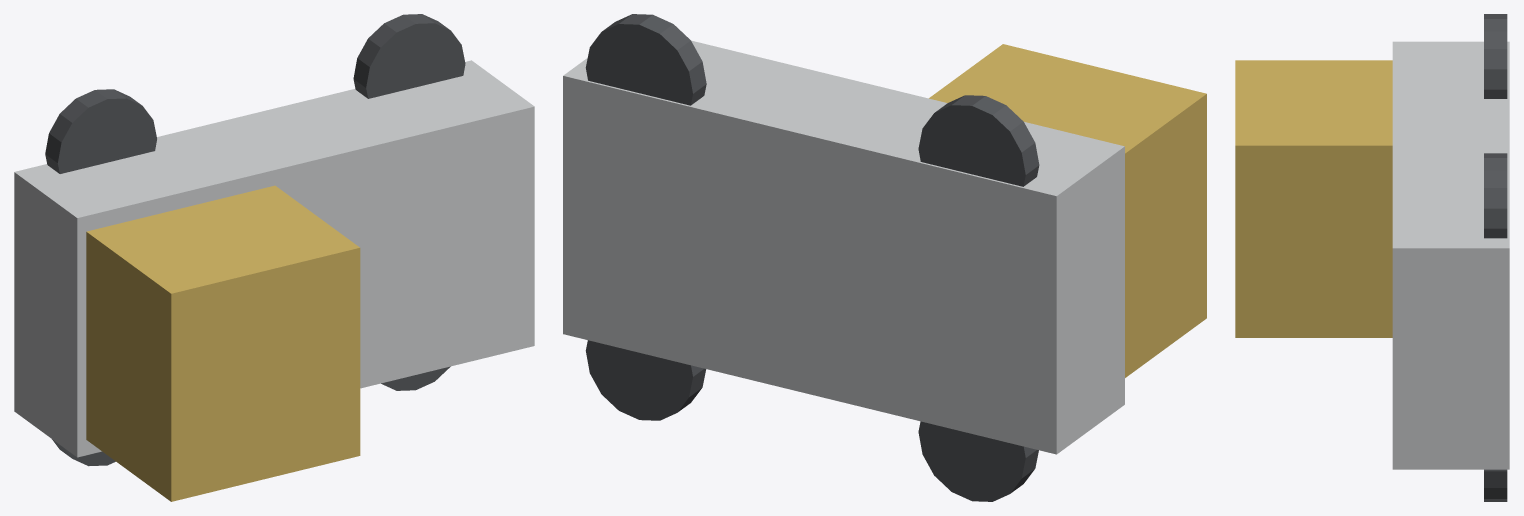
The model's file is airport_tug.glb.
The picture shows the model from 3 angles, left to right: view 1: azimuth 30°, elevation 25°; view 2: azimuth 150°, elevation 25°; view 3: azimuth 270°, elevation 25°; orthographic projection. The views are drawn at different scales.
Parts seen in each view (by area): view 1: world; view 2: world; view 3: world.
Boxes of the visible parts, left/top/right/bottom form: world: left=14, top=14, right=534, bottom=501; world: left=563, top=14, right=1206, bottom=501; world: left=1235, top=14, right=1509, bottom=501.
Bounding box in the file's own units: 2.3 × 1.76 × 1.29.
